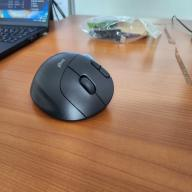mouse: (30, 50, 114, 123)
